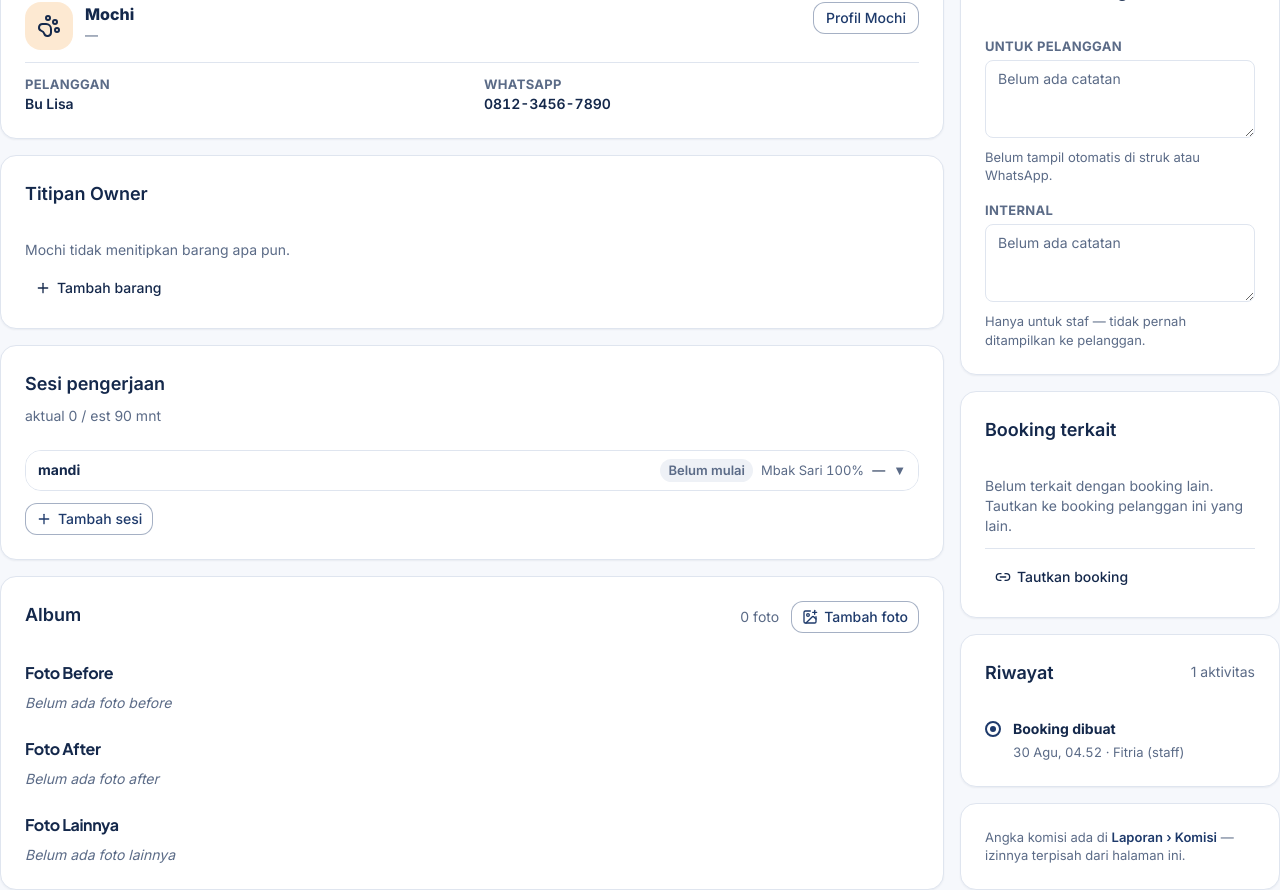
Test: BookingDetailScreen — the turns › keeps Mulai disabled while the booking is draft, and says why
(page scrolled)
What coordinates should you click on to do the following:
click the button "mandi Belum mulai Mbak Sari 100% — ▼"
I would click on:
 (59, 470)
Its box is [26,451,918,490].
(page scrolled)
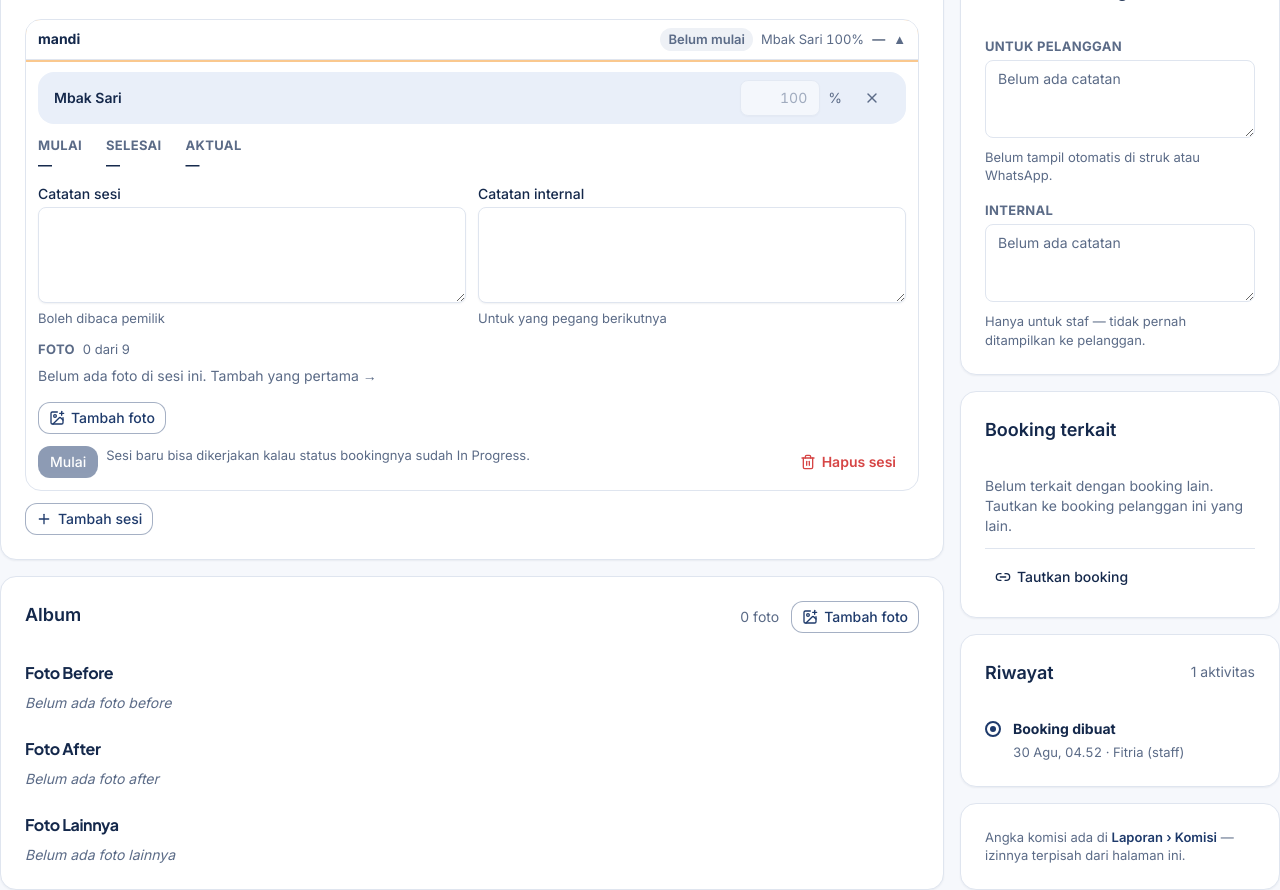
Expected: the button "Mulai" is disabled, [38,446,98,478]
Expected: the text "sudah In Progress" is shown, [106,447,530,463]
